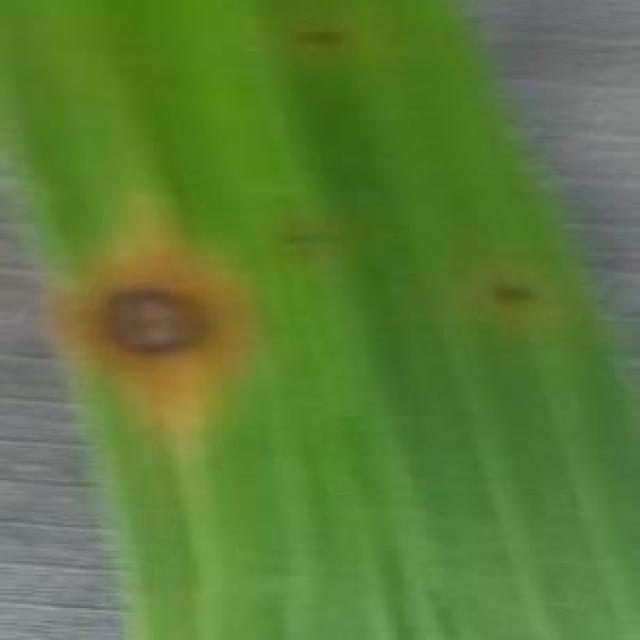Brown_Spot: (65, 208, 254, 428), (488, 264, 551, 326), (291, 15, 356, 63)
